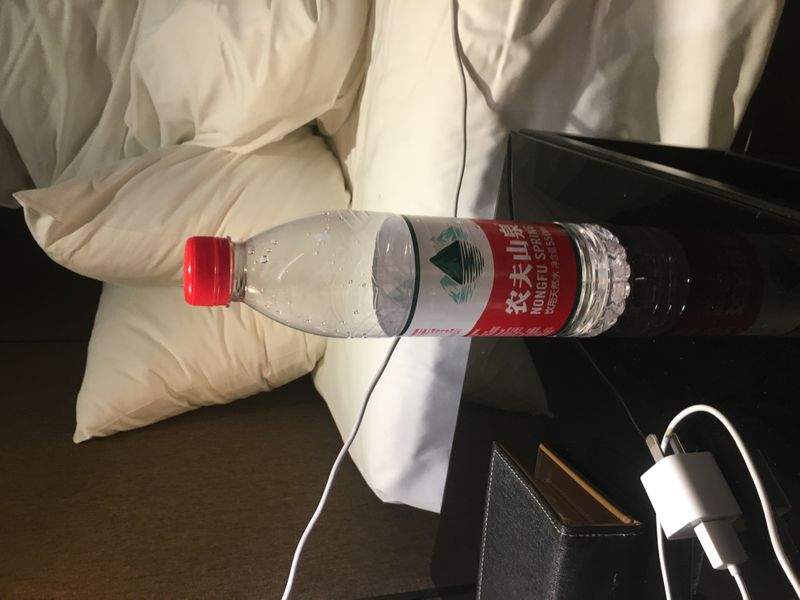5eca67a90202601e8cb8d104: (182, 212, 633, 344)
